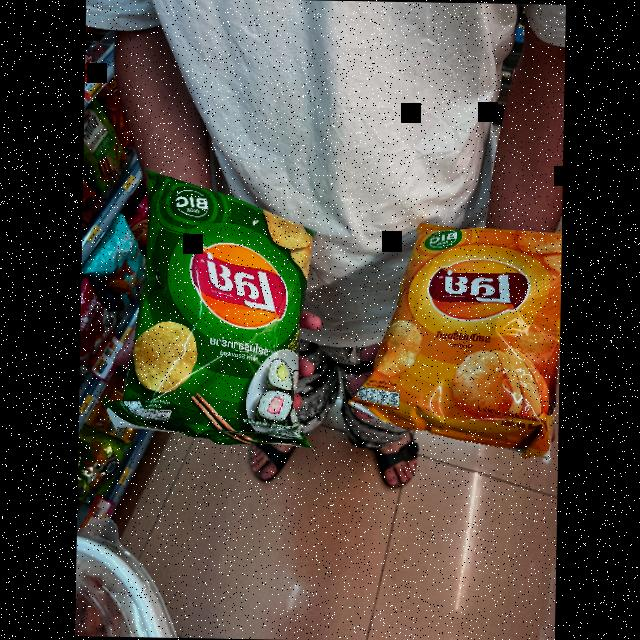snack_bag: (110, 171, 330, 452), (346, 209, 562, 462)
